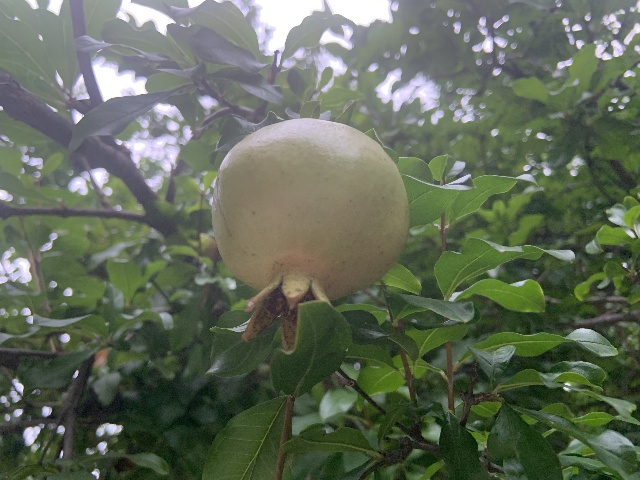mid-growth: (212, 116, 410, 350)
